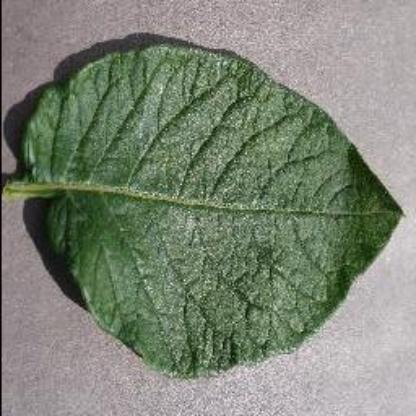Healthy-plant: (2, 34, 416, 382)
